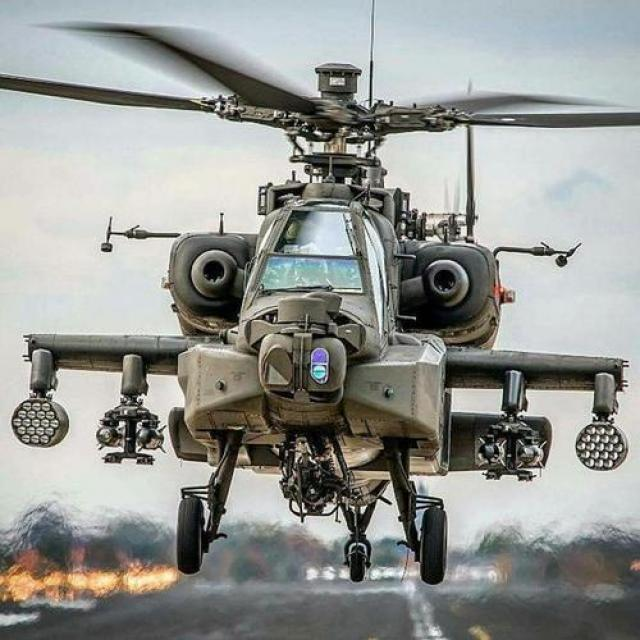MIL_HELO: (5, 7, 640, 582)
